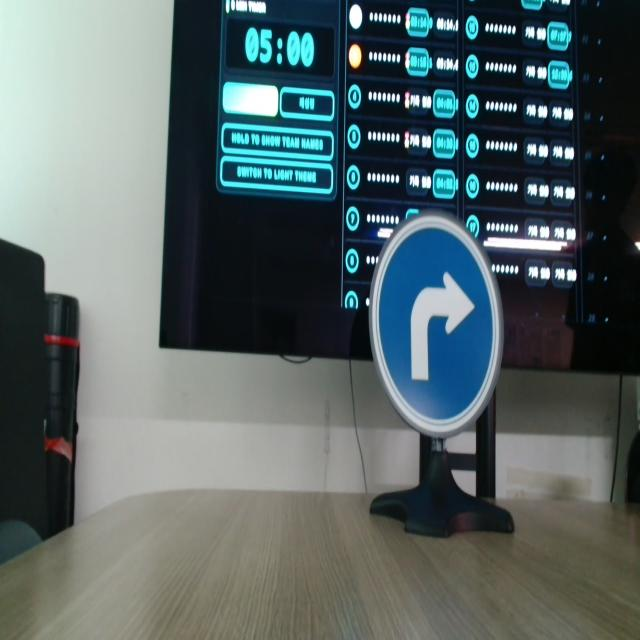right_dierection: (362, 206, 508, 445)
